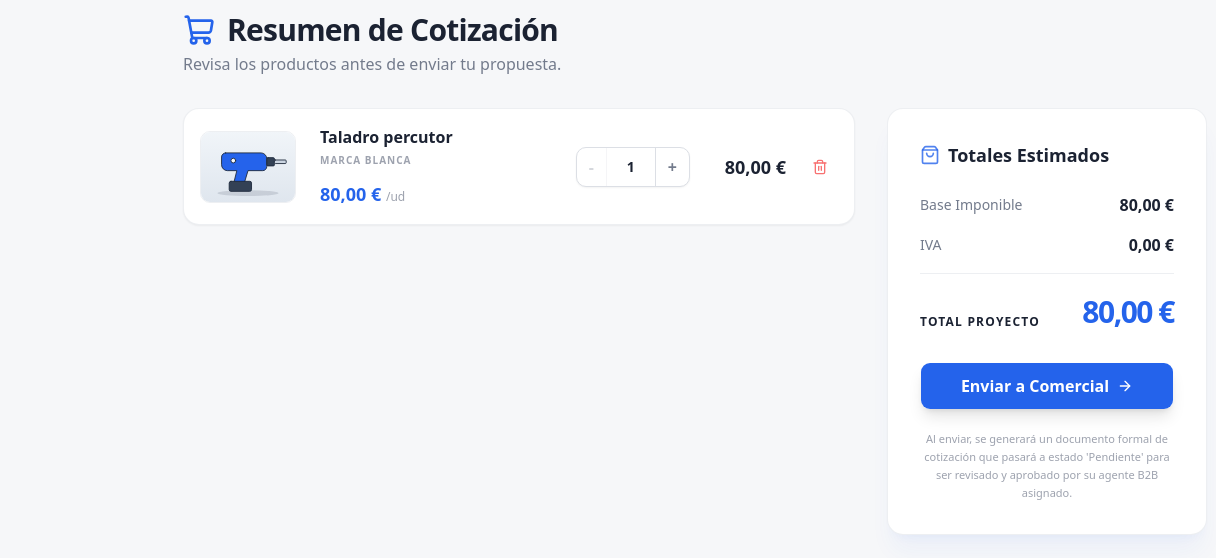
Test case: Checkout › guarda el 0 % de un producto exento en el detalle de la cotización
The image size is (1216, 558).
Click the button "Enviar a Comercial": (1047, 386) x1=920 y1=362 x2=1174 y2=410
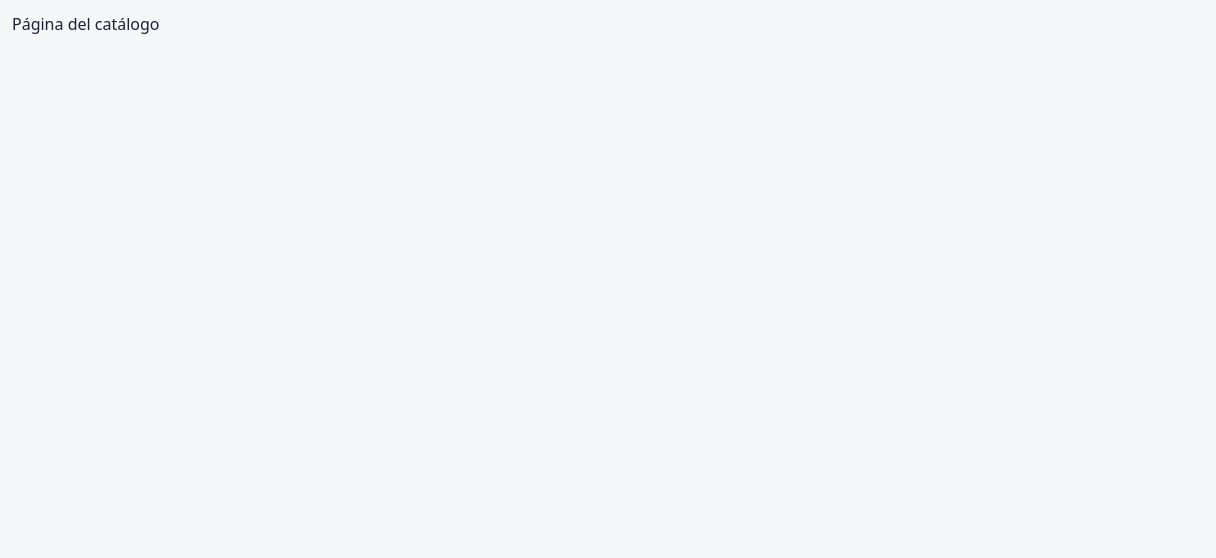
Now the text "Página del catálogo" is shown, box x1=12 y1=13 x2=160 y2=35
